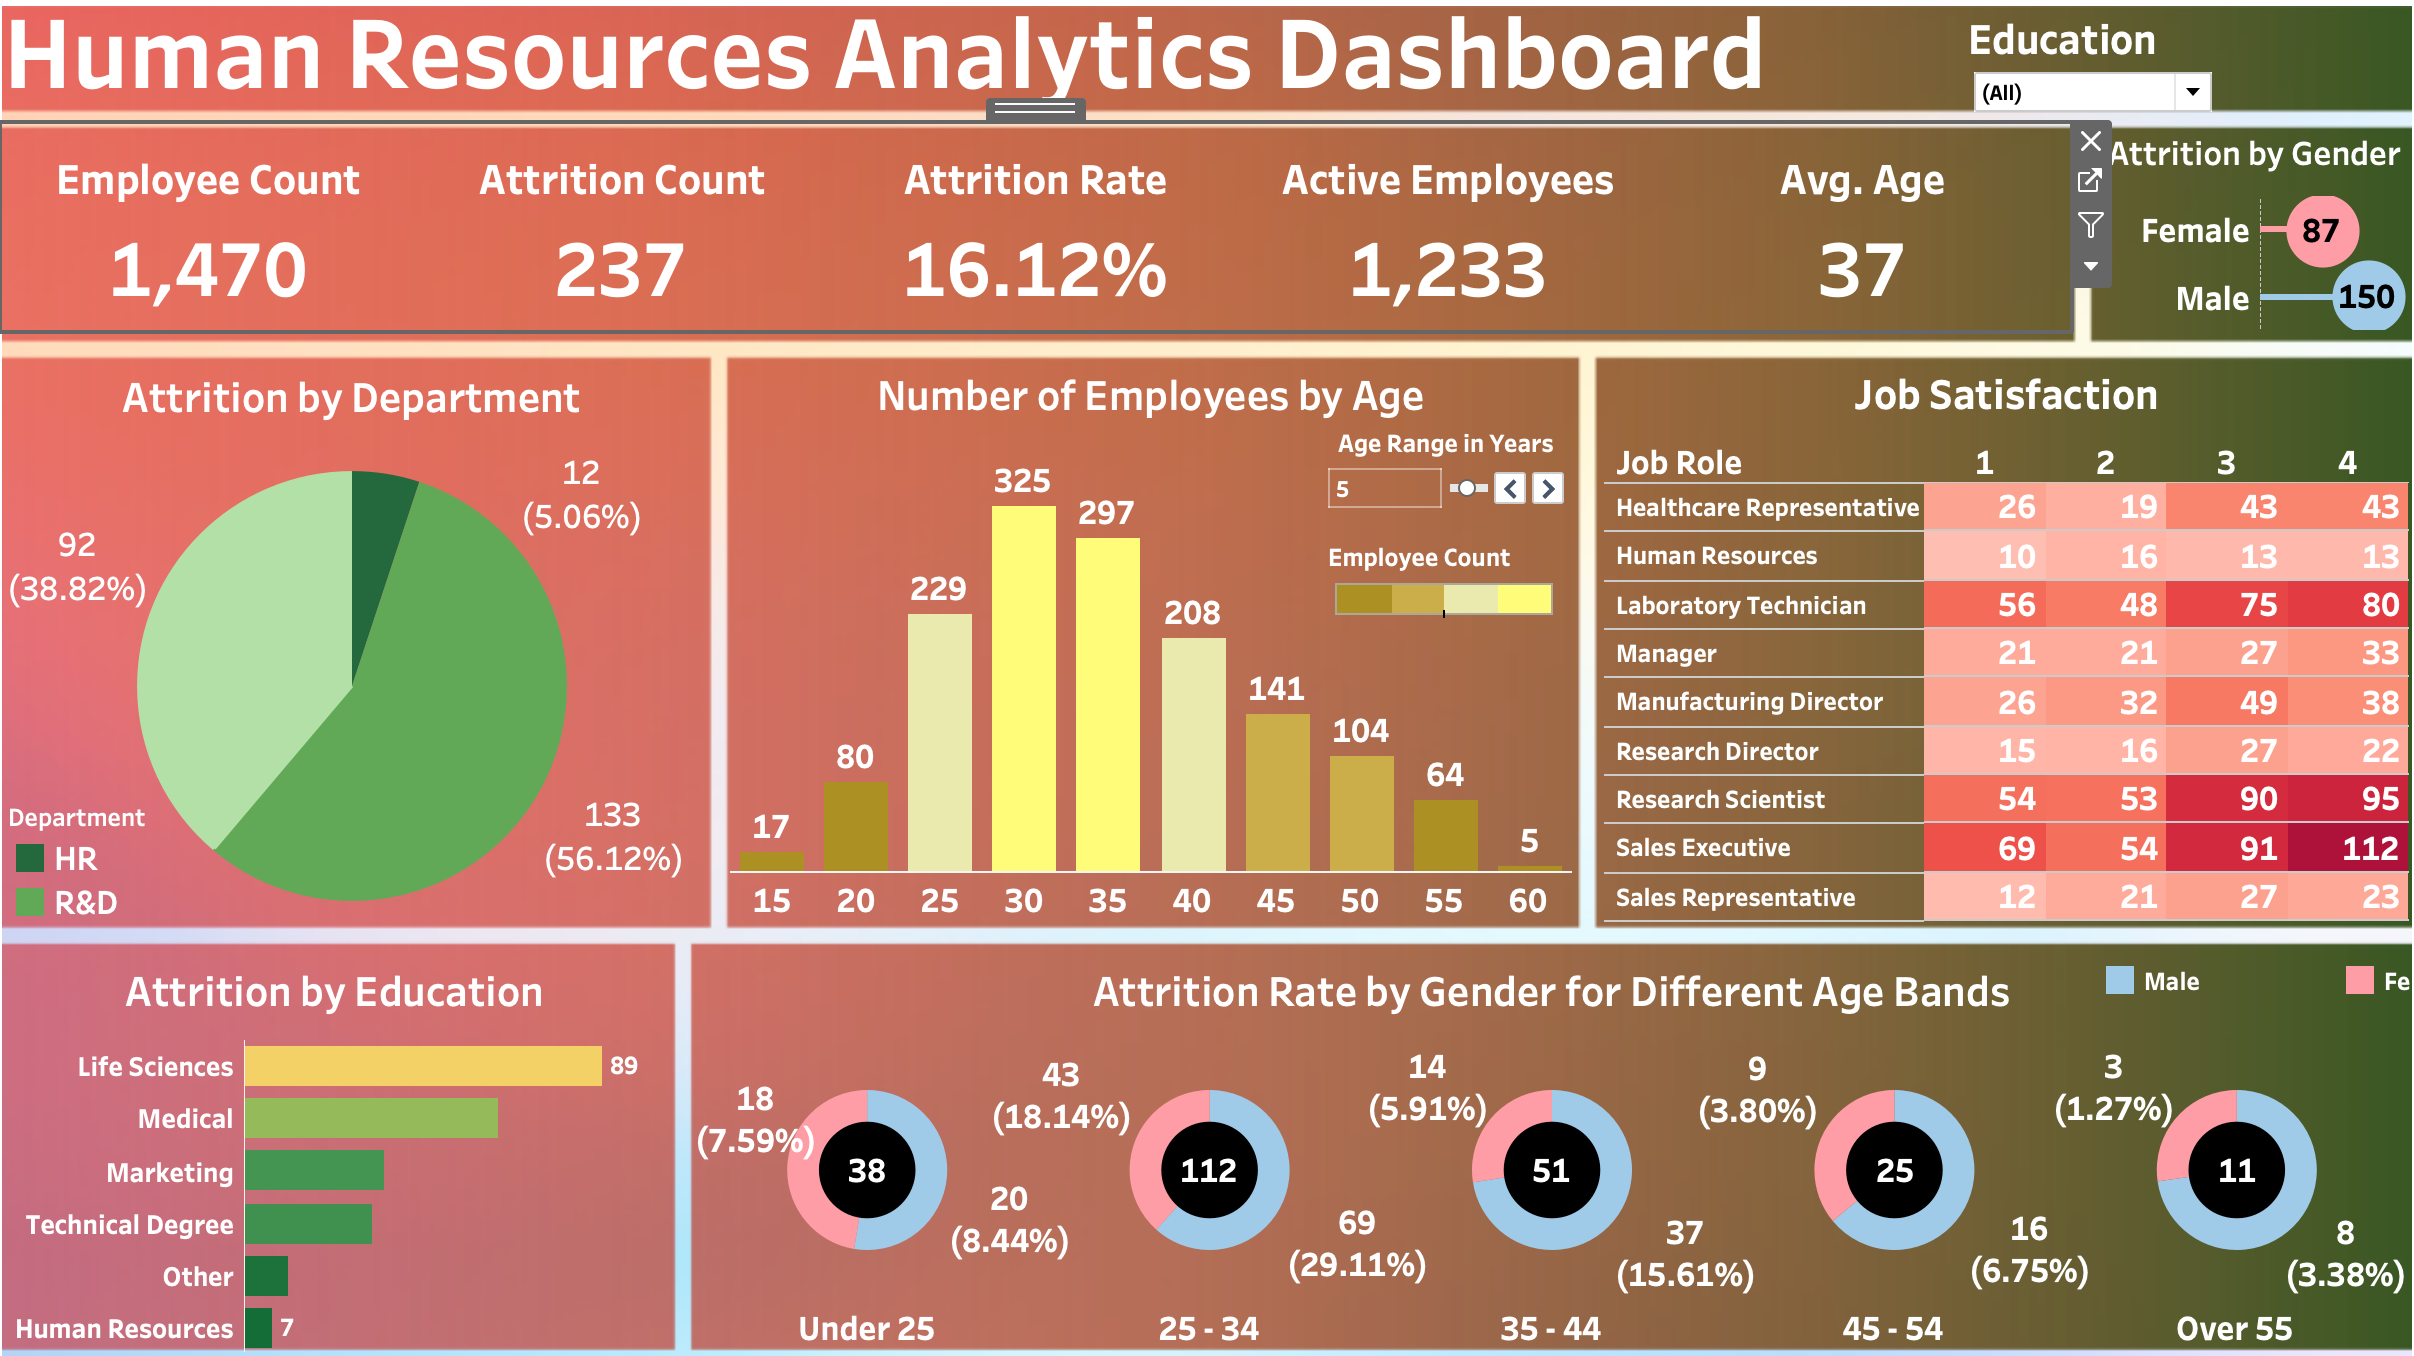

The dashboard page shown, as its layout file describes it:
{"tool":"tableau","page":{"name":"Human Resources Dashboard","canvas":[1580,900],"ordinal":0},"visuals":[{"type":"image","param":"/Users/chrisgaruba/Documents/PROJECTS/ORIGINAL PROJECT DATA/Data Analyst Portfol","box":[8,8,1564,884]},{"type":"text","box":[13,12,892,67]},{"type":"filter","title":"Attrition by Department","param":"[federated.16fzf2y1m25ecy1cqt7hm1aib45q].[none:Education:nk]","box":[1219,18,160,138]},{"type":"worksheet","title":"Attrition by Gender","mark":"Automatic","rows":["Gender"],"cols":["Calculation_1640436225959071744","Calculation_1640436225959071744"],"box":[1364,93,201,132]},{"type":"worksheet","title":"KPI","mark":"Automatic","box":[16,94,1329,131]},{"type":"worksheet","title":"Number of Employees by Age","mark":"Automatic","rows":["Employee Count"],"cols":["Age (bin)"],"box":[484,243,541,360]},{"type":"worksheet","title":"Job Satisfaction","mark":"Square","rows":["Job Role"],"cols":["Job Satisfaction"],"box":[1045,243,518,359]},{"type":"worksheet","title":"Attrition by Department","mark":"Pie","box":[14,244,453,360]},{"type":"parameter","param":"[Parameters].[Parameter 1]","box":[864,287,160,67]},{"type":"legend","title":"Number of Employees by Age","param":"[federated.16fzf2y1m25ecy1cqt7hm1aib45q].[sum:Employee Count:qk]","box":[868,359,150,52]},{"type":"legend","title":"Attrition by Department","param":"[federated.16fzf2y1m25ecy1cqt7hm1aib45q].[none:Department:nk]","box":[19,525,140,78]},{"type":"worksheet","title":"Attrition by Education","mark":"Automatic","rows":["Education Field"],"cols":["Calculation_1640436225959071744"],"box":[17,622,425,254]},{"type":"worksheet","title":"Attrition Rate by Gender for Different Age Bands","mark":"Pie","rows":["Calculation_1640436226023108614","Calculation_1640436226023129096"],"cols":["CF_age band"],"box":[462,622,1101,253]}]}

Visuals, with their boxes in screenshot pixels (x1, y1, x2, y2), scaled from the page's 1580x900 canvas onto the 2414x1356 screenshot:
image: box=[12, 12, 2402, 1344]
text: box=[20, 18, 1383, 119]
"Attrition by Department" filter: box=[1862, 27, 2107, 235]
"Attrition by Gender" worksheet: box=[2084, 140, 2391, 339]
"KPI" worksheet: box=[24, 142, 2055, 339]
"Number of Employees by Age" worksheet: box=[739, 366, 1566, 909]
"Job Satisfaction" worksheet (Square marks): box=[1597, 366, 2388, 907]
"Attrition by Department" worksheet (Pie marks): box=[21, 368, 714, 910]
parameter: box=[1320, 432, 1565, 533]
"Number of Employees by Age" legend: box=[1326, 541, 1555, 619]
"Attrition by Department" legend: box=[29, 791, 243, 909]
"Attrition by Education" worksheet: box=[26, 937, 675, 1320]
"Attrition Rate by Gender for Different Age Bands" worksheet (Pie marks): box=[706, 937, 2388, 1318]
